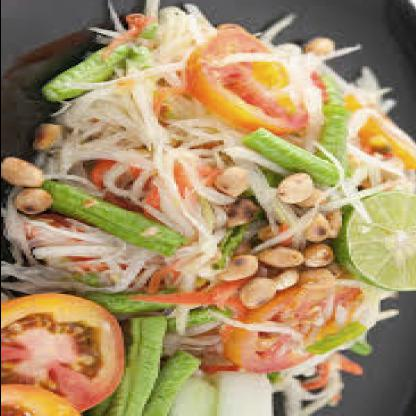Yum: (2, 6, 416, 415)
